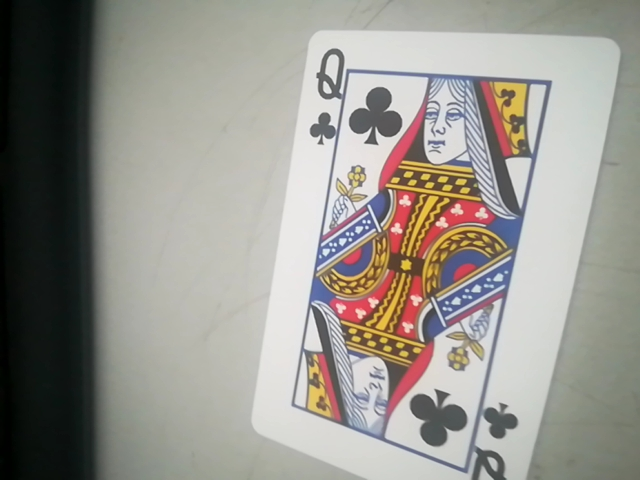mh q: (250, 30, 632, 477)
